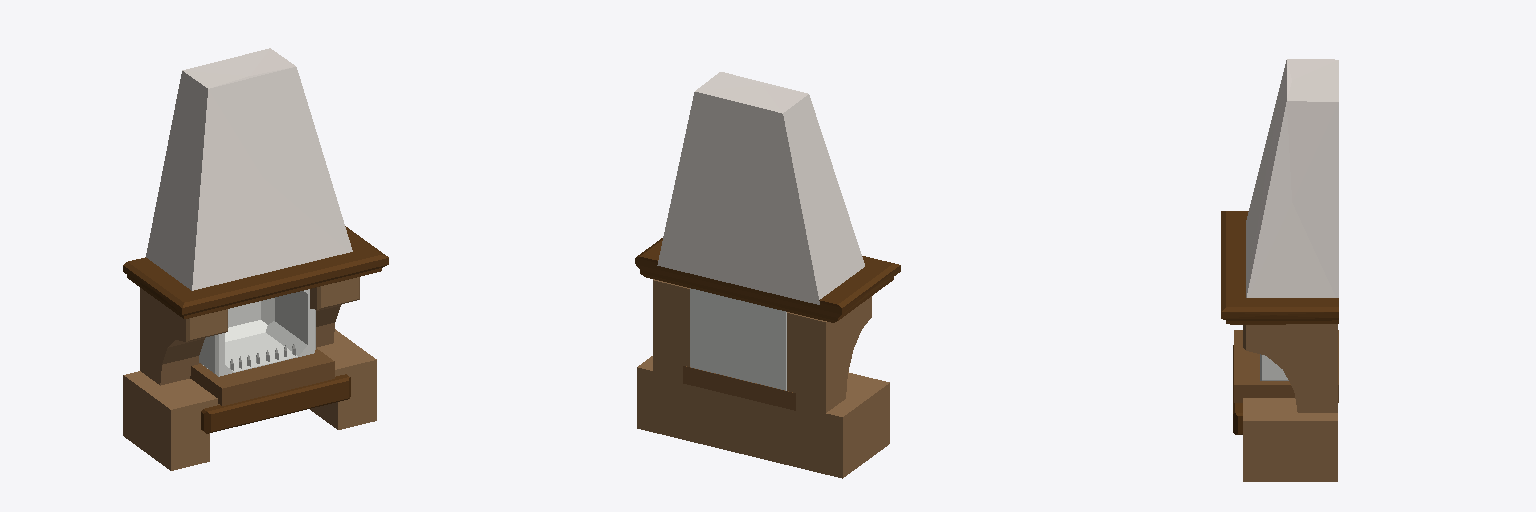
Rendered from cheminee.obj.
The picture shows the model from 3 angles: view 1: azimuth 30°, elevation 25°; view 2: azimuth 150°, elevation 25°; view 3: azimuth 270°, elevation 25°; orthographic projection.
Visible parts, largest first — view 1: hote, socle_reserve_bois, poutre, foyer_f, montantg, brique, poutre_bas, montantdr; view 2: hote, socle_reserve_bois, foyer_f, montantg, poutre, montantdr, brique; view 3: hote, socle_reserve_bois, montantdr, poutre, brique.
Boxes of the visible parts, x1,y1,x2,y2 form: hote: [146, 48, 352, 290]; socle_reserve_bois: [123, 329, 376, 470]; poutre: [123, 226, 388, 318]; foyer_f: [199, 289, 315, 376]; montantg: [140, 288, 227, 385]; brique: [190, 348, 334, 405]; poutre_bas: [201, 374, 350, 433]; montantdr: [310, 277, 359, 347]; hote: [657, 72, 864, 304]; socle_reserve_bois: [637, 356, 889, 478]; foyer_f: [690, 288, 786, 390]; montantg: [787, 296, 871, 415]; poutre: [635, 238, 900, 322]; montantdr: [653, 279, 689, 380]; brique: [683, 366, 795, 410]; hote: [1246, 59, 1338, 297]; socle_reserve_bois: [1243, 398, 1337, 481]; montantdr: [1243, 324, 1337, 412]; poutre: [1221, 211, 1338, 324]; brique: [1234, 330, 1338, 402].
Bounding box in the file's own units: 4.63 × 7.52 × 2.28.